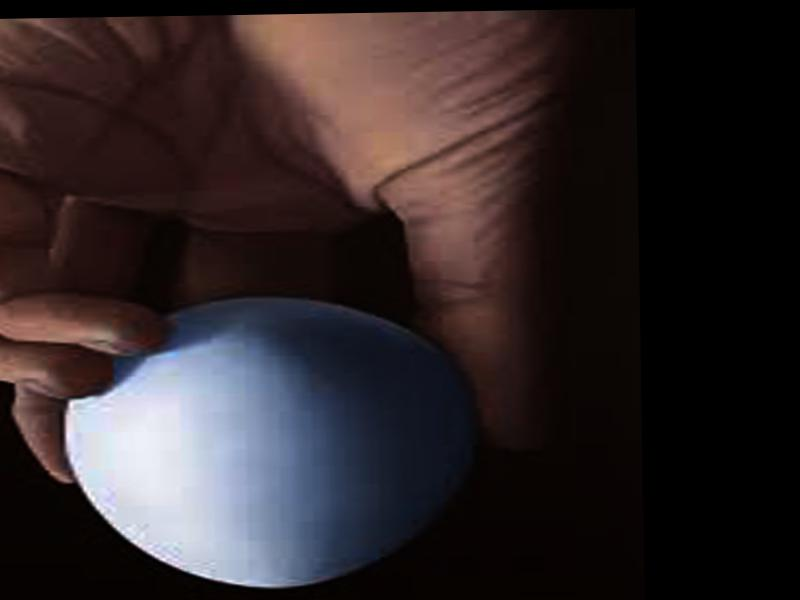Eggs: (57, 296, 474, 594)
